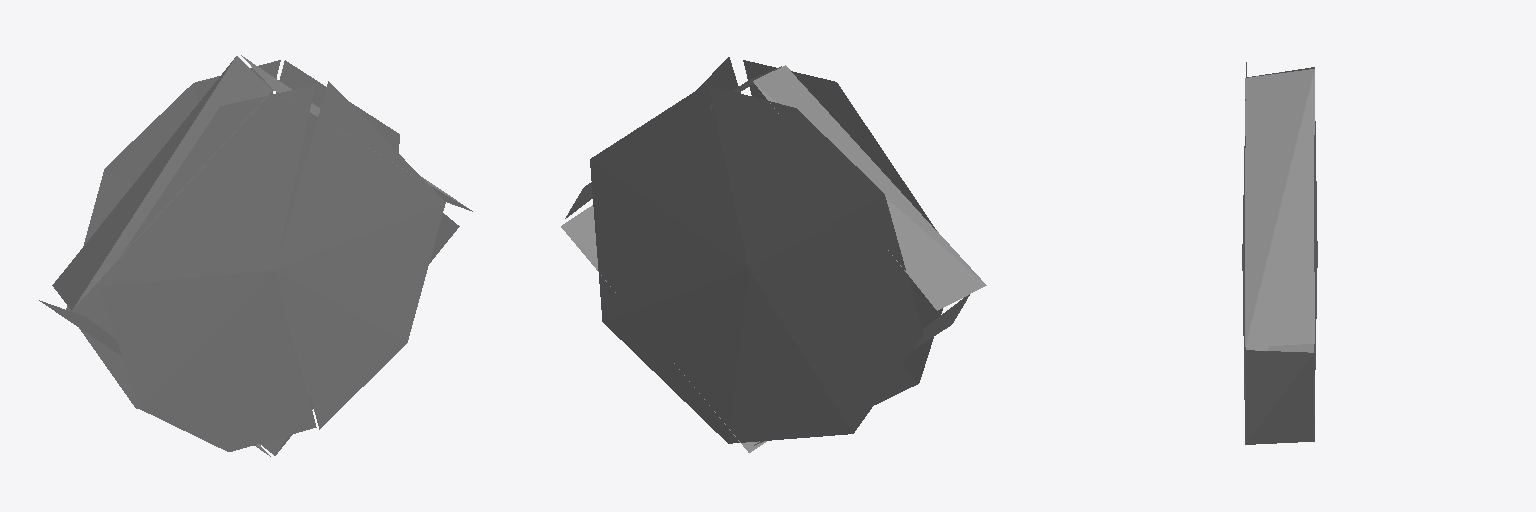
The model's file is Coin_LOD3.obj.
The picture shows the model from 3 angles: view 1: azimuth 30°, elevation 25°; view 2: azimuth 150°, elevation 25°; view 3: azimuth 270°, elevation 25°; orthographic projection.
Parts seen in each view (by area): view 1: Coin__BodyMT_Mesh; view 2: Coin__BodyMT_Mesh; view 3: Coin__BodyMT_Mesh.
Part boxes in pixels (left/top/right/bottom): Coin__BodyMT_Mesh: left=39, top=55, right=472, bottom=456; Coin__BodyMT_Mesh: left=561, top=57, right=986, bottom=452; Coin__BodyMT_Mesh: left=1242, top=62, right=1317, bottom=444.
Bounding box in the file's own units: 2.55 × 2.27 × 0.4134.